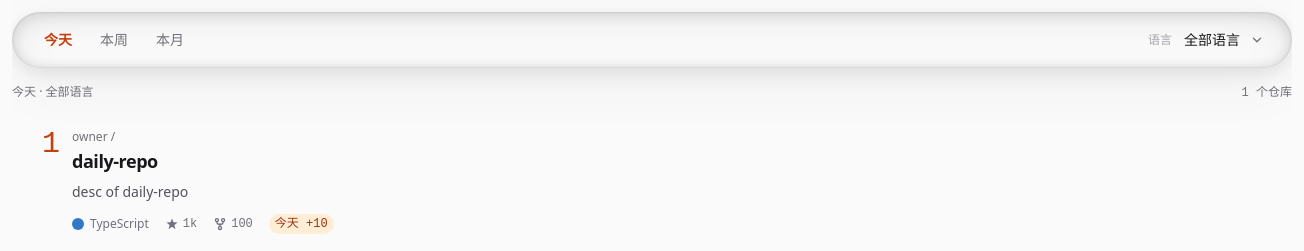
Scenario: RepoBrowser › serves a visited key from cache: no fetch, instant swap, pushState gets buildFilterPath
Click the button "本周" at (114, 40), box [88, 24, 140, 56]
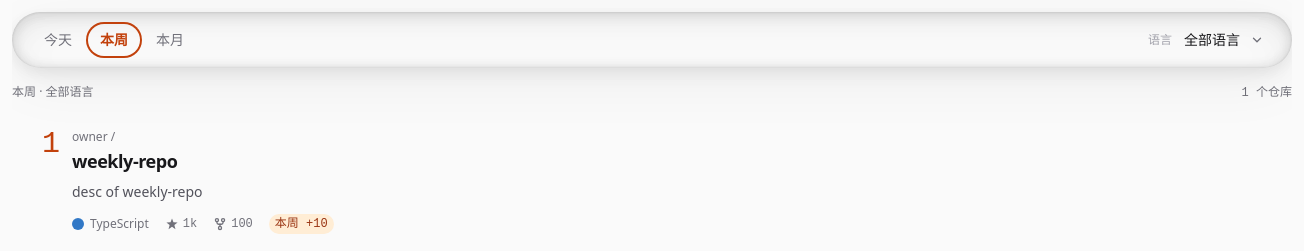
Check: the text "weekly-repo" is shown, box [72, 149, 177, 173]
Click the button "今天" at (58, 40), box [32, 24, 84, 56]
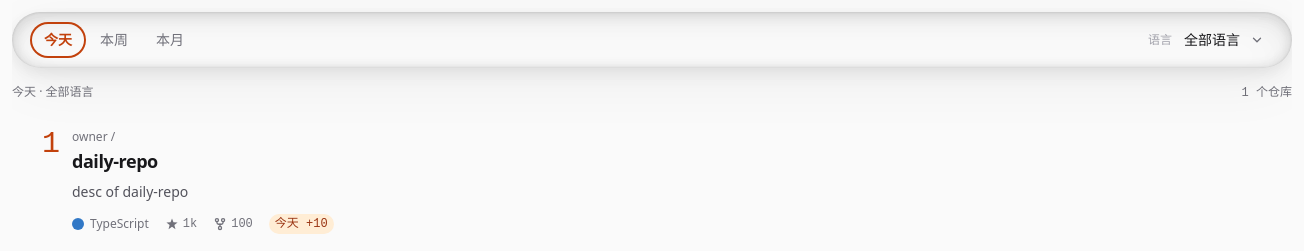
Check: the text "daily-repo" is shown, box [72, 149, 158, 173]
